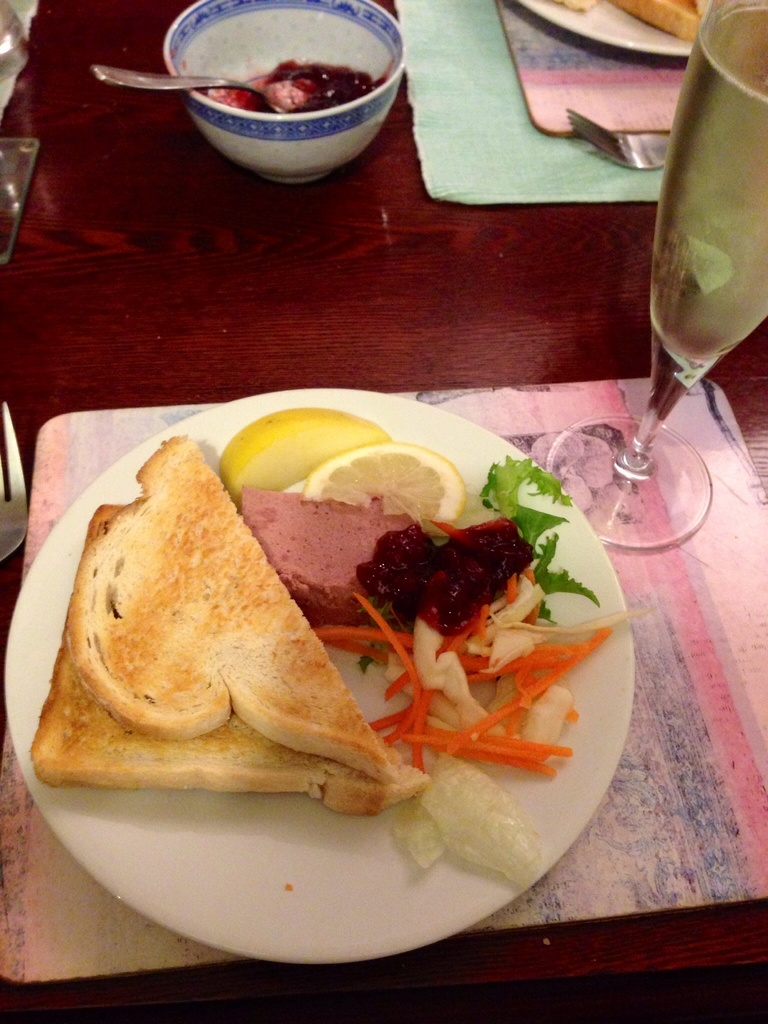sandwich: (22, 437, 435, 817)
